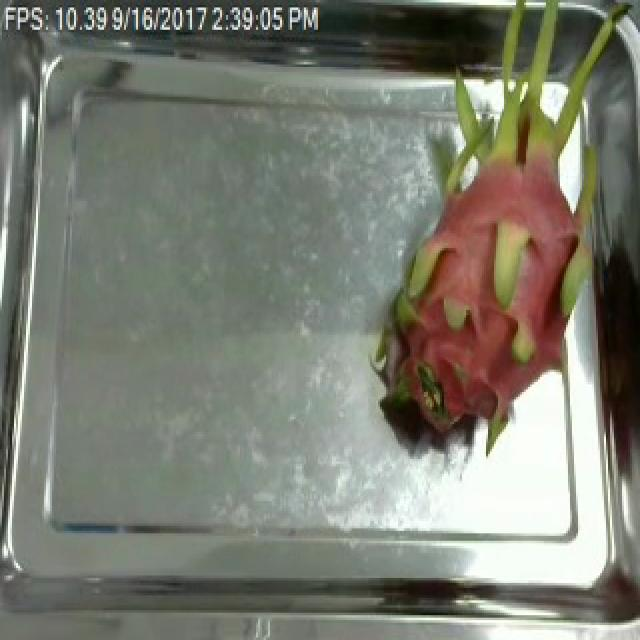fruit: (348, 38, 614, 462)
